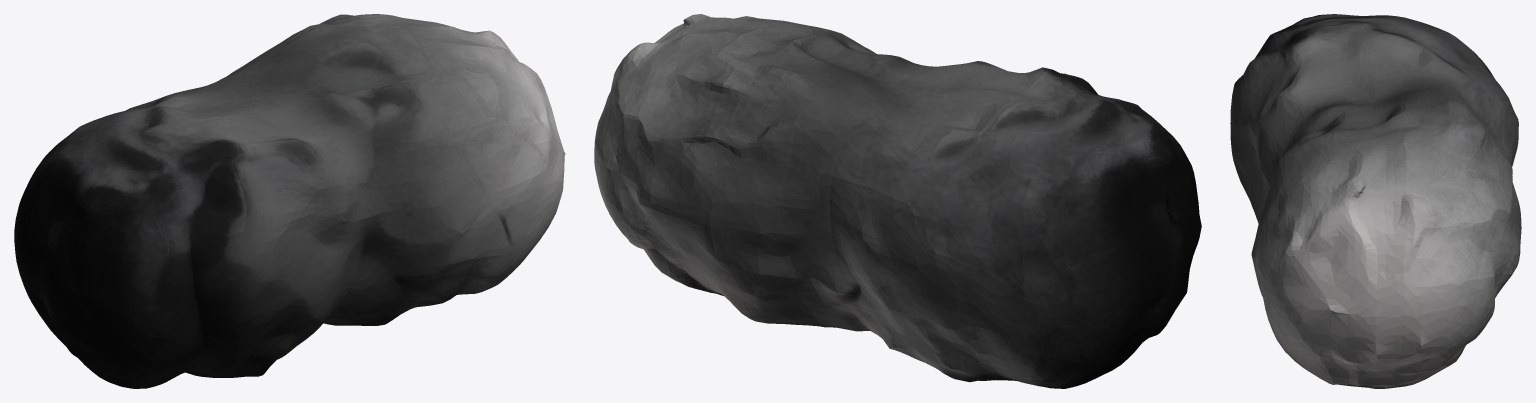
File: ast_elongated.glb
The picture shows the model from 3 angles, left to right: view 1: azimuth 30°, elevation 25°; view 2: azimuth 150°, elevation 25°; view 3: azimuth 270°, elevation 25°; orthographic projection. The views are drawn at different scales.
Visible parts, largest first — view 1: world; view 2: world; view 3: world.
Part boxes in pixels (x1,y1,x2,y2): world: (14,14,565,388); world: (594,14,1201,388); world: (1230,14,1521,388).
Size of the model in its own units: 0.9977 by 0.501 by 0.5123.
Materials: 1 (1 with a texture image).
